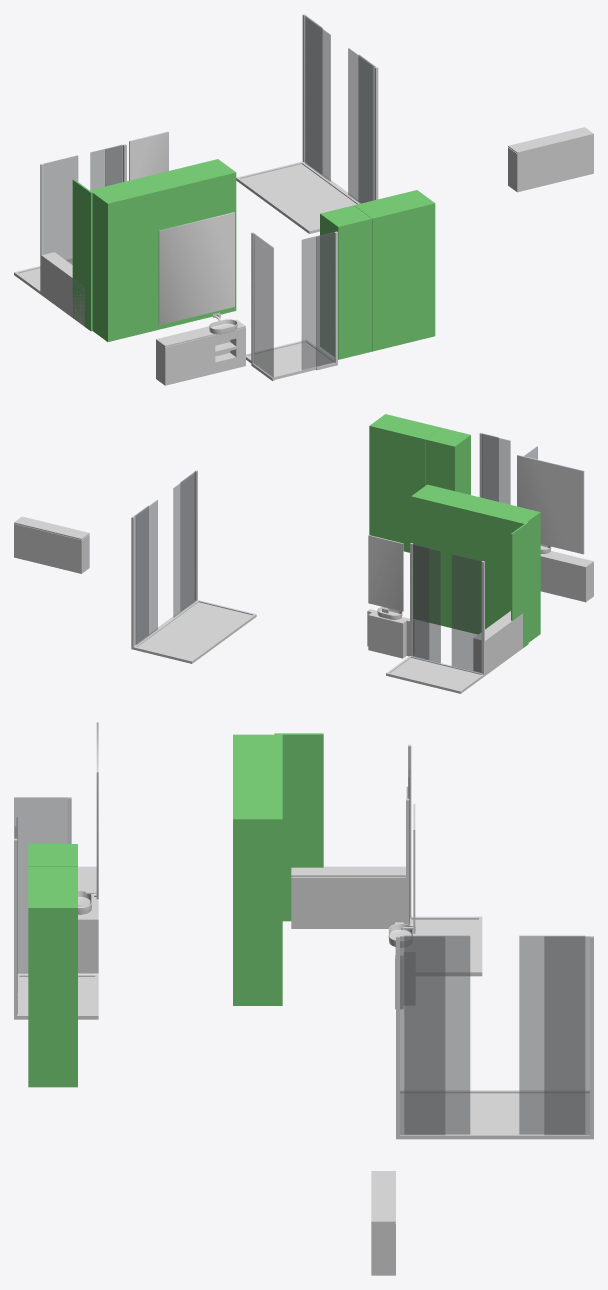
File: RB05__Storey__FirstFloor__ProposedFixtures__MeshModel__.glb
The picture shows the model from 3 angles, top to bottom: view 1: azimuth 30°, elevation 25°; view 2: azimuth 150°, elevation 25°; view 3: azimuth 270°, elevation 25°; orthographic projection. The views are drawn at different scales.
Visible parts, largest first — view 1: 27__ProposedBuilding__Fixtures::MAT014__ForDiscussion__Green, 27__ProposedBuilding__Fixtures::Default, 27__ProposedBuilding__Fixtures::MAT101__Glass__ClearDefault, 27__ProposedBuilding__Fixtures::MAT140__Mirror__ClearDefault; view 2: 27__ProposedBuilding__Fixtures::MAT014__ForDiscussion__Green, 27__ProposedBuilding__Fixtures::Default, 27__ProposedBuilding__Fixtures::MAT101__Glass__ClearDefault, 27__ProposedBuilding__Fixtures::MAT140__Mirror__ClearDefault, 27__ProposedBuilding__Fixtures::MAT615__Metal__Ironmongery__; view 3: 27__ProposedBuilding__Fixtures::MAT101__Glass__ClearDefault, 27__ProposedBuilding__Fixtures::Default, 27__ProposedBuilding__Fixtures::MAT014__ForDiscussion__Green.
Part boxes in pixels (bbox=[...]): 27__ProposedBuilding__Fixtures::MAT014__ForDiscussion__Green: bbox=[72, 159, 435, 359]; 27__ProposedBuilding__Fixtures::Default: bbox=[14, 14, 593, 385]; 27__ProposedBuilding__Fixtures::MAT101__Glass__ClearDefault: bbox=[44, 16, 375, 377]; 27__ProposedBuilding__Fixtures::MAT140__Mirror__ClearDefault: bbox=[129, 132, 234, 325]; 27__ProposedBuilding__Fixtures::MAT014__ForDiscussion__Green: bbox=[369, 414, 540, 647]; 27__ProposedBuilding__Fixtures::Default: bbox=[14, 432, 593, 693]; 27__ProposedBuilding__Fixtures::MAT101__Glass__ClearDefault: bbox=[134, 433, 537, 673]; 27__ProposedBuilding__Fixtures::MAT140__Mirror__ClearDefault: bbox=[368, 455, 584, 611]; 27__ProposedBuilding__Fixtures::MAT615__Metal__Ironmongery__: bbox=[451, 561, 484, 676]; 27__ProposedBuilding__Fixtures::MAT101__Glass__ClearDefault: bbox=[14, 746, 589, 1134]; 27__ProposedBuilding__Fixtures::Default: bbox=[14, 797, 593, 1275]; 27__ProposedBuilding__Fixtures::MAT014__ForDiscussion__Green: bbox=[28, 733, 323, 1087].
Bounding box in the file's own units: 10.18 × 2.7 × 7.03.
5 materials, 1 textured.
